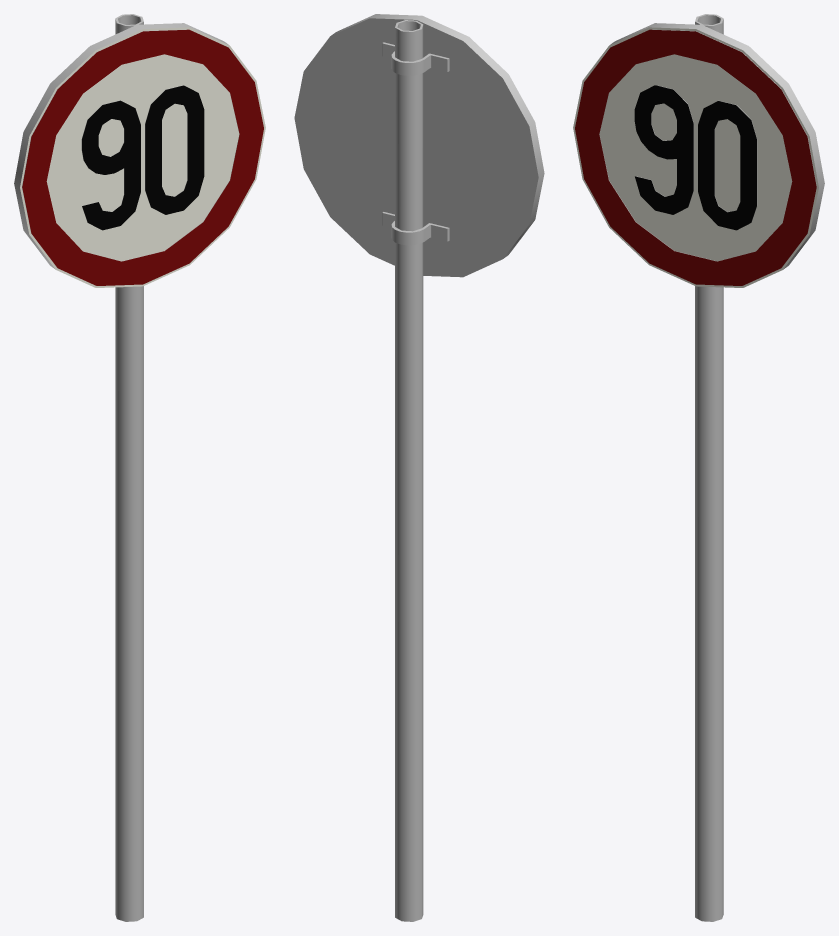
3 views of the same model, side by side, from view 1: azimuth 30°, elevation 25°; view 2: azimuth 150°, elevation 25°; view 3: azimuth 330°, elevation 25° (orthographic).
Parts seen in each view (by area): view 1: 90; view 2: 90; view 3: 90.
Part boxes in pixels (left/top/right/bottom): 90: left=14, top=14, right=265, bottom=921; 90: left=294, top=14, right=544, bottom=921; 90: left=573, top=14, right=824, bottom=921.
Size of the model in its own units: 603 by 2102 by 95.5.
